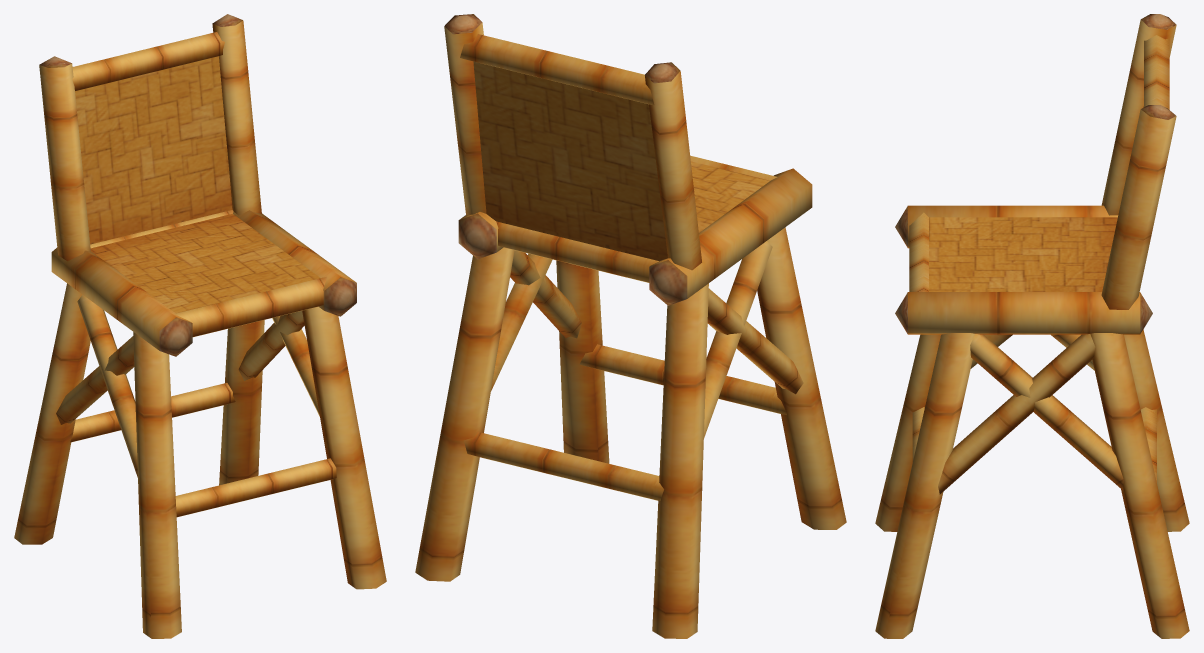
The model's file is Bamboo_Chair_03.FBX.
3 renders of one model, left to right at view 1: azimuth 30°, elevation 25°; view 2: azimuth 150°, elevation 25°; view 3: azimuth 270°, elevation 25°, orthographic. The views are drawn at different scales.
Visible parts, largest first — view 1: Bamboo_Chair_03; view 2: Bamboo_Chair_03; view 3: Bamboo_Chair_03.
Boxes of the visible parts, <box> form: Bamboo_Chair_03: <box>14,14,386,638</box>; Bamboo_Chair_03: <box>415,14,846,638</box>; Bamboo_Chair_03: <box>875,14,1189,638</box>.
Bounding box in the file's own units: 0.7049 × 0.7588 × 1.38.
